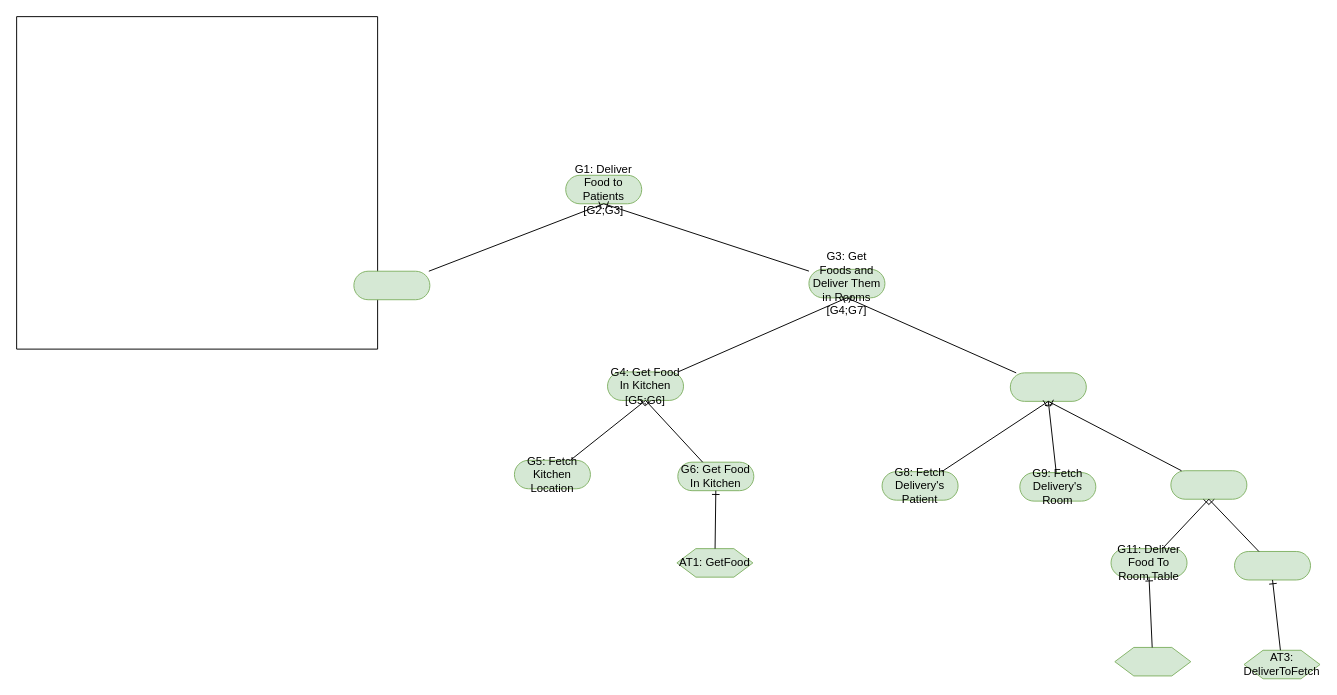
Some shapes in this 1337 by 695 pixel diagram are drawn without their labels. The shapes that lost their labels are listed below. From the top down, each one's centre as x and y in pixels, then its label:
[391,285]: G2: Fetch Rooms That Need Food Delivering
[1047,386]: G7: Deliver Food [G8;G9;G10]
[1208,484]: G10: Deliver Food To Patient
[1272,565]: G12: Food Fetched From Robot Tray
[1152,661]: AT2: DeliverToTable
